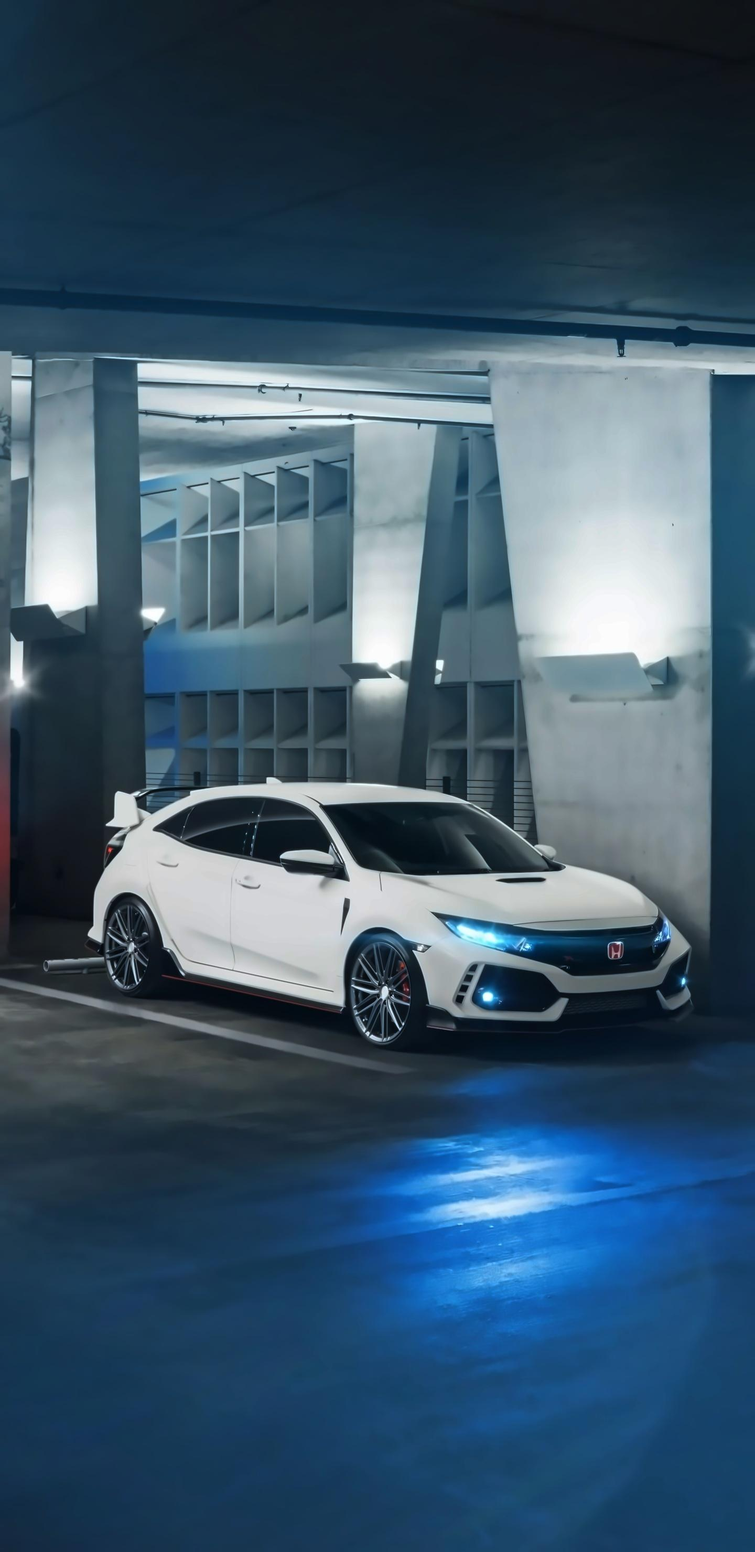Car hood: (401, 863, 692, 941)
Driver-s door - -F-R-: (223, 761, 352, 1034)
Fender - -F-R-: (320, 855, 459, 1029)
Fender - -R-R-: (93, 784, 168, 985)
Front bumper: (412, 947, 701, 1041)
Headlight - -R-: (428, 889, 545, 966)
Passenger-s door - -R-R-: (137, 761, 265, 994)
Side bumper - -R-: (152, 941, 352, 1041)
Side mirror - -R-: (273, 844, 352, 885)
